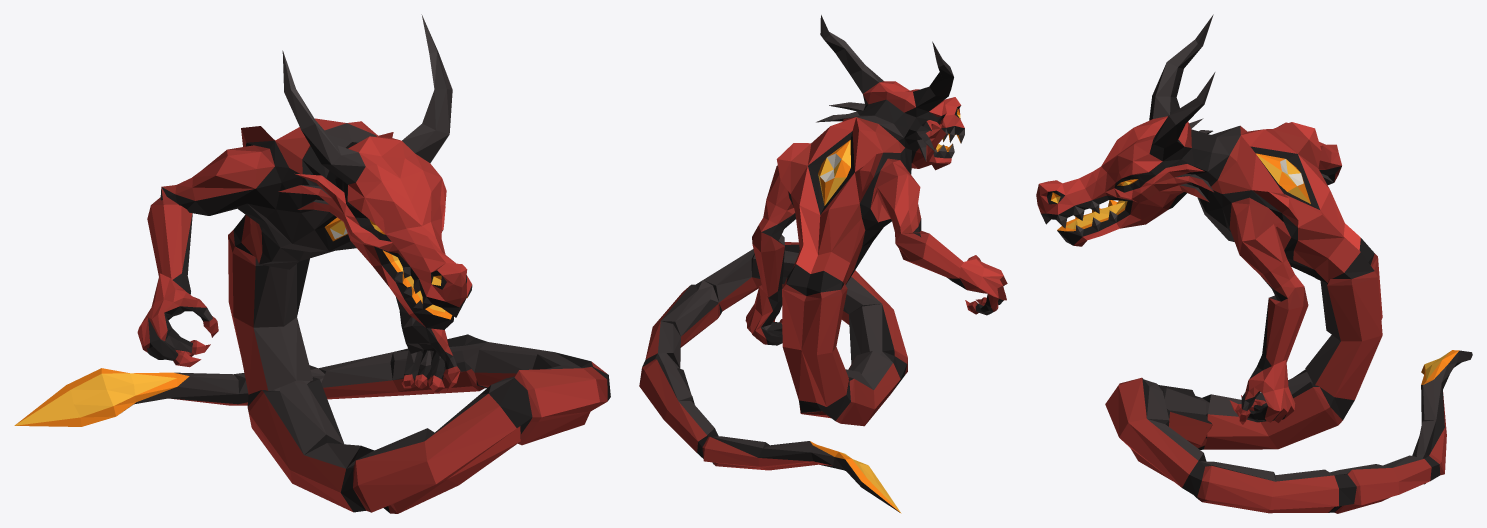
The model's file is galvek.gltf.
The picture shows the model from 3 angles, left to right: view 1: azimuth 30°, elevation 25°; view 2: azimuth 150°, elevation 25°; view 3: azimuth 270°, elevation 25°; orthographic projection. The views are drawn at different scales.
Size of the model in its own units: 647 by 682 by 659.
Materials: 2 (2 with a texture image).
